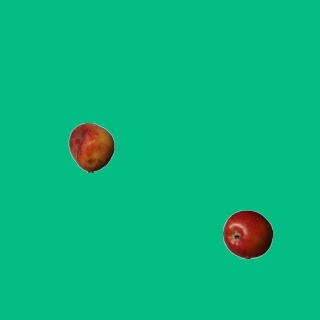Apple Braeburn: (222, 209, 272, 259)
Peach: (66, 122, 116, 172)
